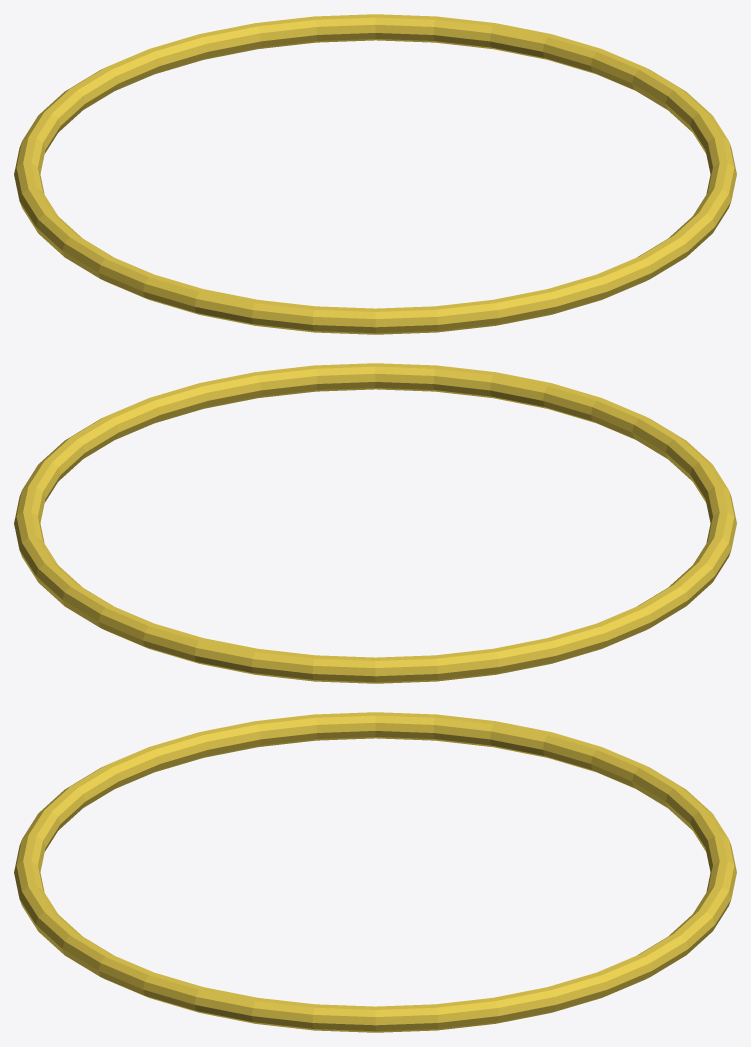
File: halka.fbx
3 renders of one model, top to bottom at view 1: azimuth 30°, elevation 25°; view 2: azimuth 150°, elevation 25°; view 3: azimuth 270°, elevation 25°, orthographic.
Visible parts, largest first — view 1: Torus.001; view 2: Torus.001; view 3: Torus.001.
Boxes of the visible parts, x1,y1,x2,y2 form: Torus.001: (14, 14, 736, 334); Torus.001: (14, 363, 736, 683); Torus.001: (14, 712, 736, 1032).
Size of the model in its own units: 13.66 by 13.66 by 0.4755.
